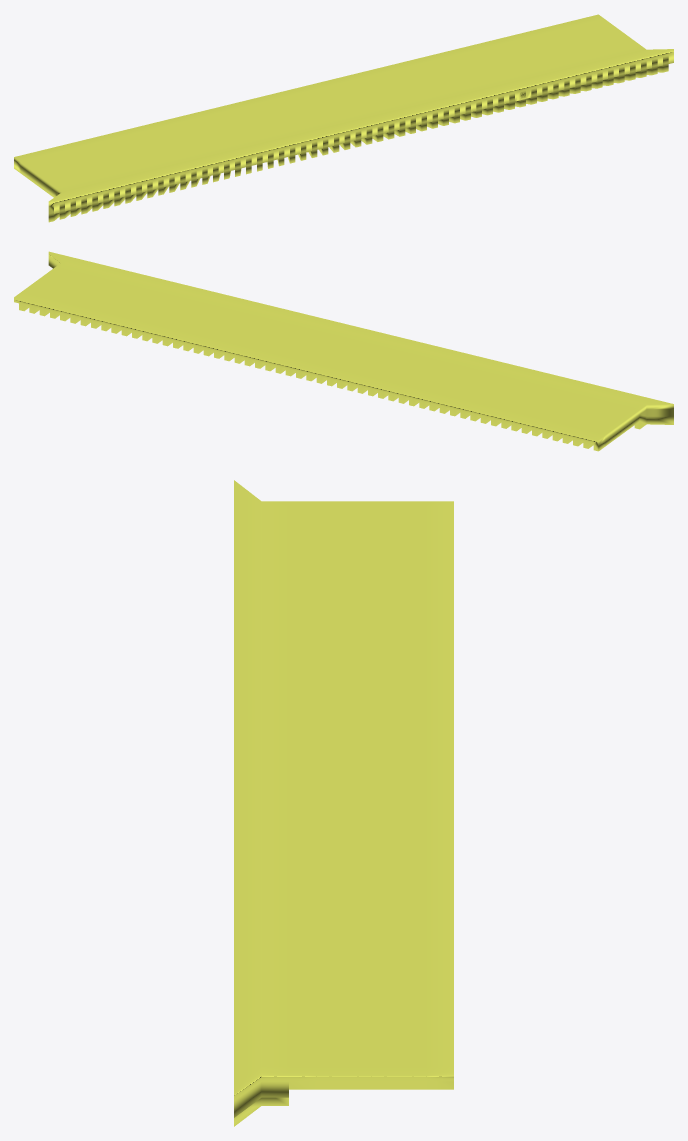
Rendered from laberinto4.fbx.
The picture shows the model from 3 angles, top to bottom: view 1: azimuth 30°, elevation 25°; view 2: azimuth 150°, elevation 25°; view 3: azimuth 270°, elevation 25°; orthographic projection. The views are drawn at different scales.
Visible parts, largest first — view 1: Cube.001; view 2: Cube.001; view 3: Cube.001.
Part boxes in pixels (x1,y1,x2,y2): Cube.001: [14, 14, 673, 222]; Cube.001: [14, 251, 673, 451]; Cube.001: [234, 480, 453, 1126].
Size of the model in its own units: 272 by 41.45 by 8.71.
